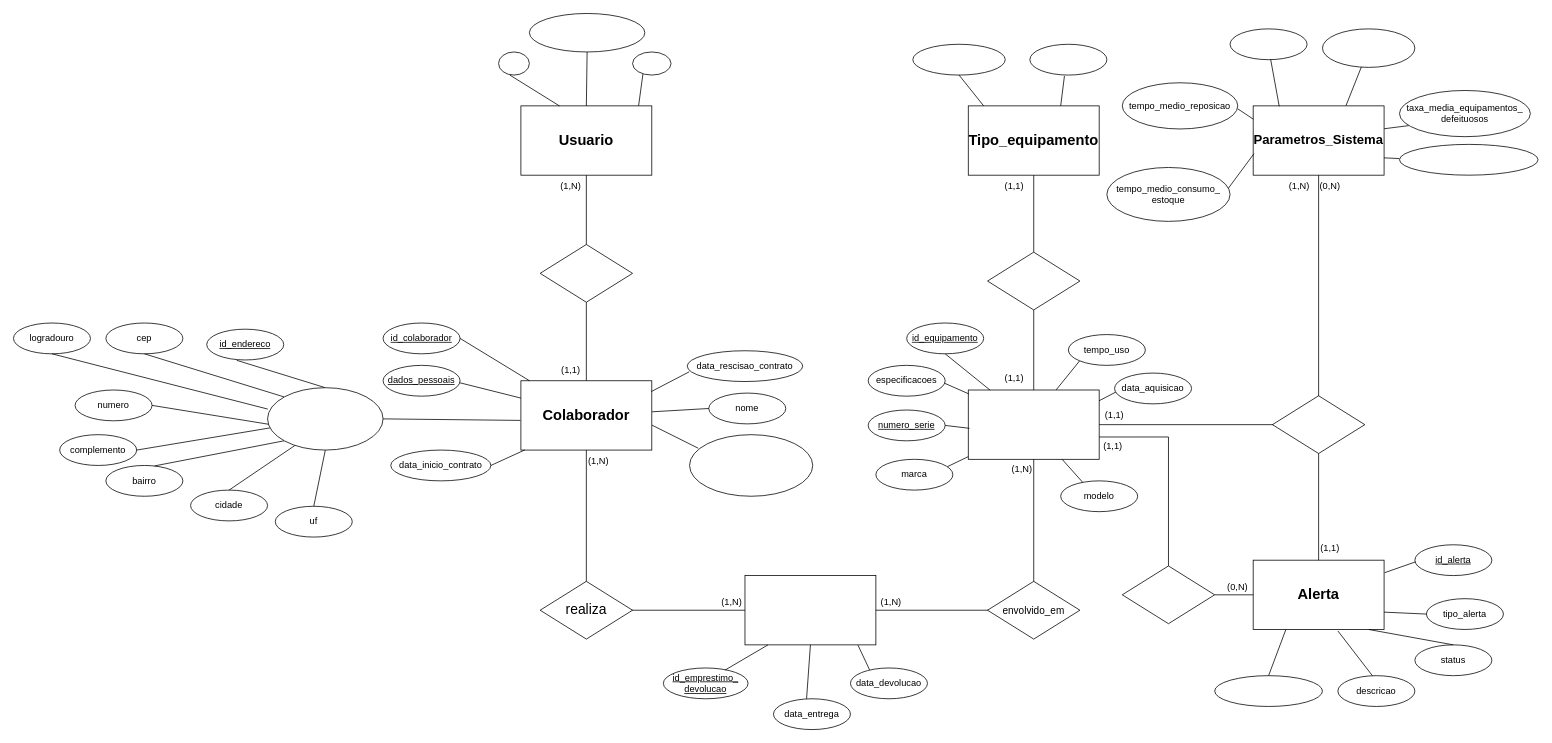
The diagram is 1552 pixels wide and 743 high, and some of its shapes have lost their labels. Here are the shapes that lost their labels. From the top down, the centre of each, then its label:
the point at 587,32: status_confirmacao_email
the point at 1268,44: id_parametro
the point at 1368,47: tempo_medio_ envio
the point at 513,63: email
the point at 651,63: senha
the point at 958,59: id_tipo_equpamento
the point at 1068,59: nome_tipo
the point at 1468,159: estoque_minimo_seguranca
the point at 586,273: pode ser
the point at 1033,280: categoriza
the point at 325,418: endereco
the point at 1033,424: Equipamento
the point at 1318,424: influencia_gestao
the point at 751,465: especificacoes_ equipamentos_necessarios
the point at 810,610: Emprestimo_Devolucao
the point at 1168,594: baseado_em
the point at 1268,690: data_hora_geracao
